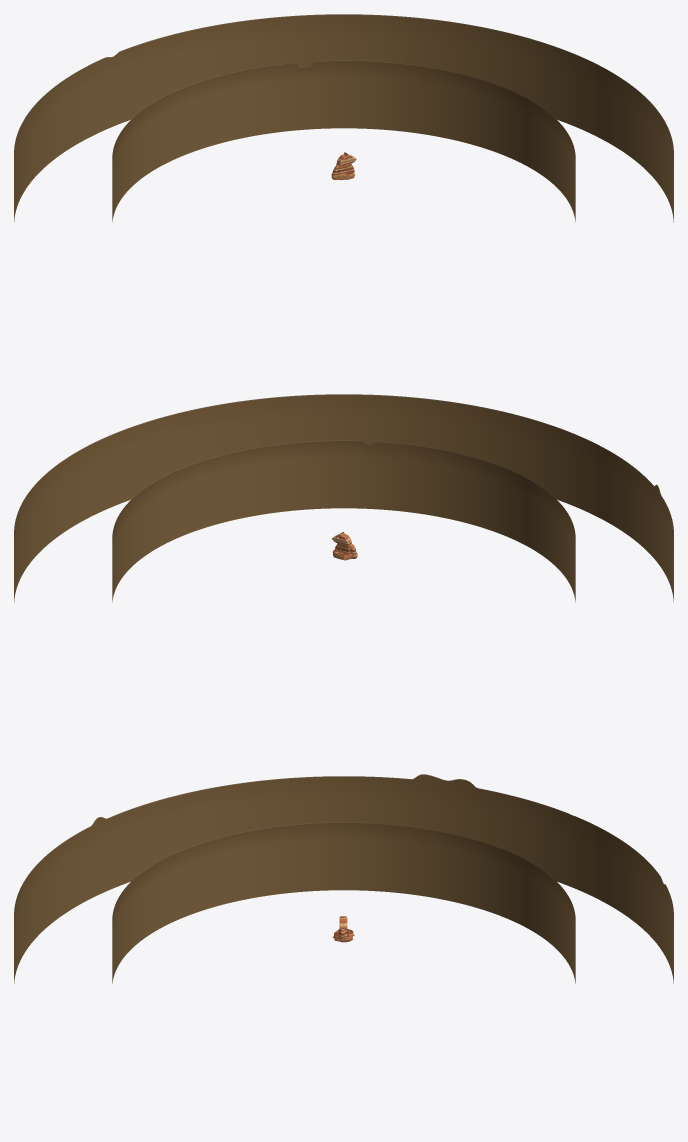
Rendered from forks.glb.
3 views of the same model, one above another, from view 1: azimuth 30°, elevation 25°; view 2: azimuth 150°, elevation 25°; view 3: azimuth 270°, elevation 25° (orthographic).
Visible parts, largest first — view 1: horizon-far, horizon-near; view 2: horizon-far, horizon-near; view 3: horizon-far, horizon-near.
Boxes of the visible parts, bbox=[...] form: horizon-far: bbox=[14, 14, 673, 222]; horizon-near: bbox=[112, 60, 575, 221]; horizon-far: bbox=[14, 394, 673, 602]; horizon-near: bbox=[112, 440, 575, 601]; horizon-far: bbox=[14, 774, 673, 983]; horizon-near: bbox=[112, 822, 575, 983].
Size of the model in its own units: 470 by 61.91 by 470.
Materials: 11 (10 with a texture image).
